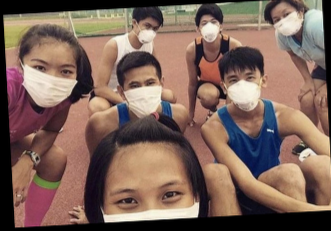with_mask: (101, 180, 200, 220), (23, 55, 79, 107), (123, 77, 164, 118), (226, 71, 263, 110), (273, 8, 303, 38), (198, 17, 223, 42), (135, 20, 159, 45)
